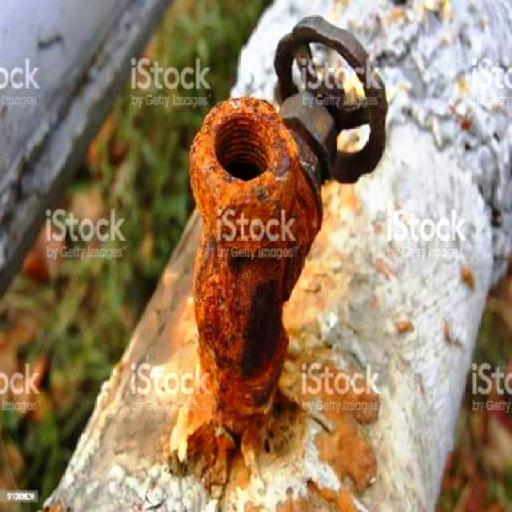corrosion: (185, 86, 314, 448)
